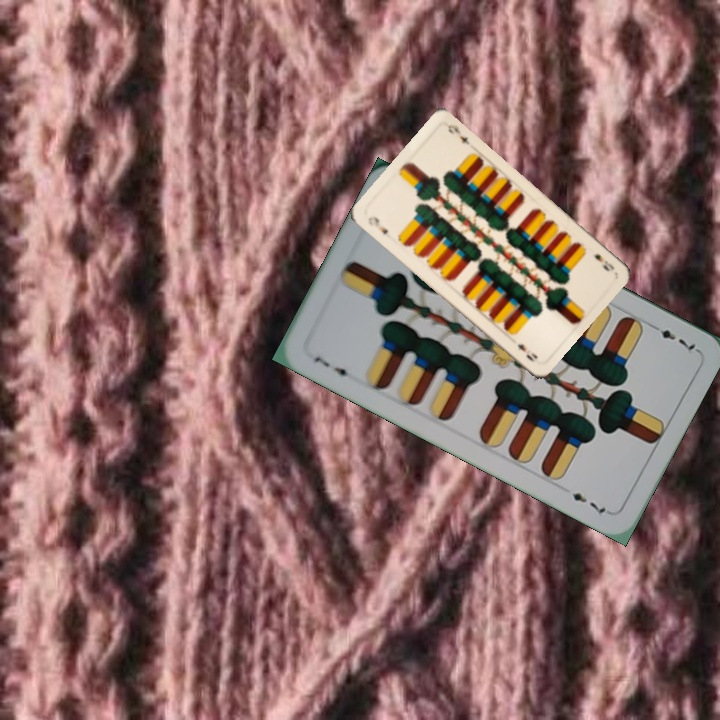E7: (645, 321, 700, 354), (310, 352, 356, 383)
E9: (364, 212, 391, 237), (590, 250, 617, 274)
